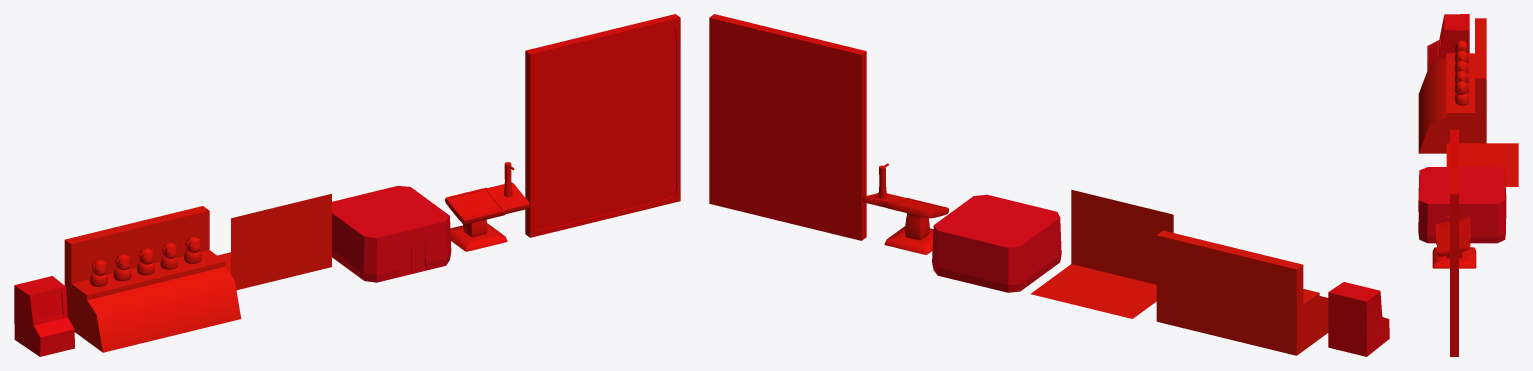
Rendered from MapPlaceholderAssets.fbx.
3 views of the same model, side by side, from view 1: azimuth 30°, elevation 25°; view 2: azimuth 150°, elevation 25°; view 3: azimuth 270°, elevation 25° (orthographic). The views are drawn at different scales.
Visible parts, largest first — view 1: LeaderboardModel, WardrobeModel, ElevatorShaft, GreenScreenModel, ATMModel, MapPodiumModel; view 2: LeaderboardModel, WardrobeModel, GreenScreenModel, ElevatorShaft, ATMModel, MapPodiumModel; view 3: WardrobeModel, ElevatorShaft, LeaderboardModel, GreenScreenModel, MapPodiumModel, ATMModel.
Part boxes in pixels (x1,y1,x2,y2): LeaderboardModel: (525,14,680,237); WardrobeModel: (64,206,241,352); ElevatorShaft: (332,186,451,282); GreenScreenModel: (217,193,331,290); ATMModel: (14,276,74,356); MapPodiumModel: (445,162,529,251); LeaderboardModel: (709,14,866,240); WardrobeModel: (1156,230,1328,355); GreenScreenModel: (1030,189,1173,318); ElevatorShaft: (932,194,1061,292); ATMModel: (1328,282,1389,356); MapPodiumModel: (862,163,948,254); WardrobeModel: (1418,18,1486,153); ElevatorShaft: (1418,167,1506,243); LeaderboardModel: (1450,129,1458,356); GreenScreenModel: (1446,143,1518,186); MapPodiumModel: (1432,216,1476,268); ATMModel: (1427,14,1469,70).
Size of the model in its own units: 2615 by 700 by 391.
